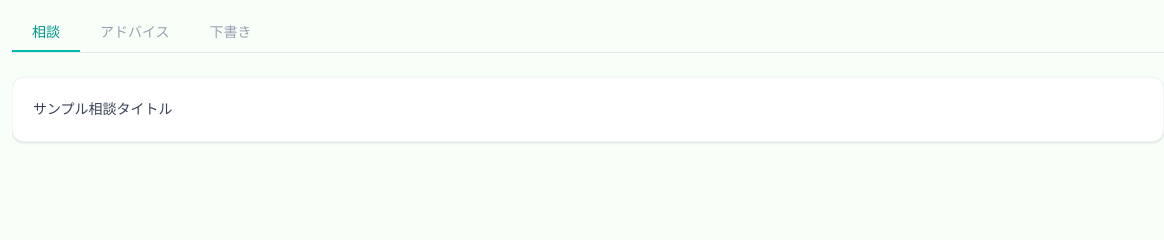
Scenario: UserContentTabs 下書きタブ › アドバイスの下書き取得だけ失敗すると、通知を出しつつ相談の下書きは表示する
The width and height of the screenshot is (1164, 240).
Click the button "下書き" at (231, 32), box [190,12,272,52]
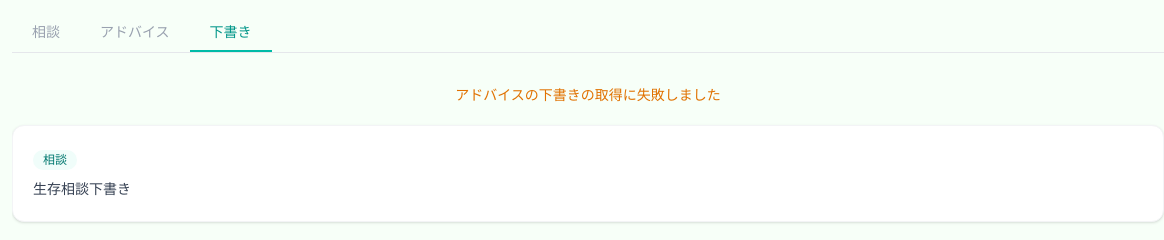
expect the message reads "アドバイスの下書きの取得に失敗しました": met, box [455,85,721,104]
expect the text "生存相談下書き" is shown: met, box [33,179,131,198]
